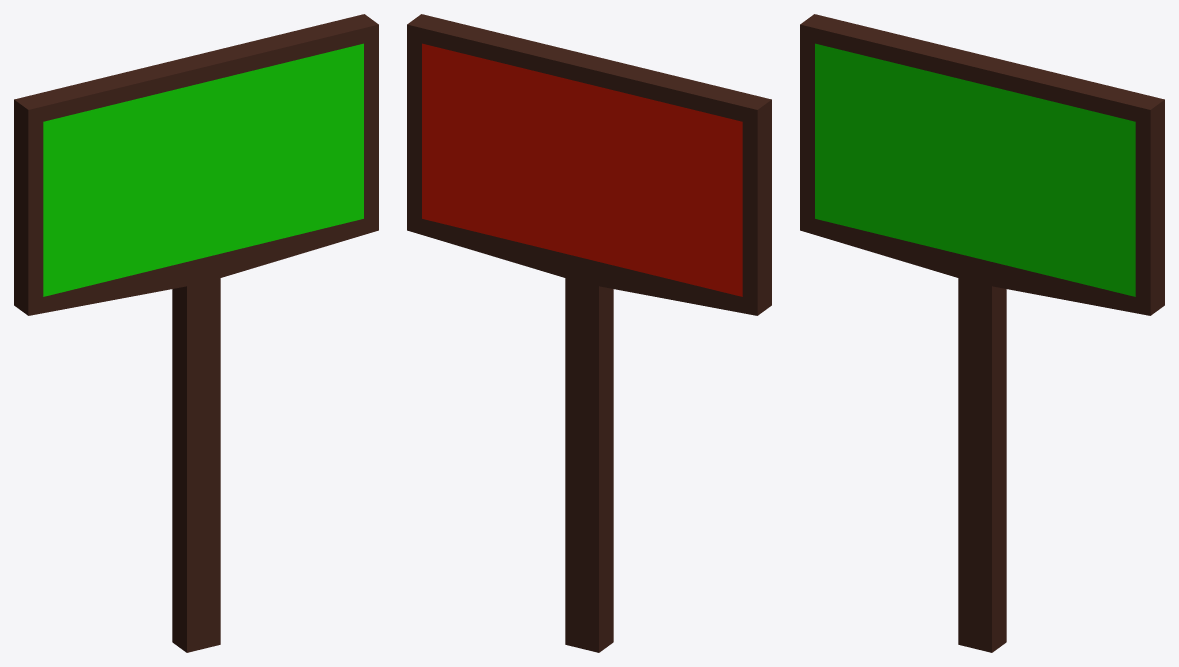
File: Sign.glb
3 views of the same model, side by side, from view 1: azimuth 30°, elevation 25°; view 2: azimuth 150°, elevation 25°; view 3: azimuth 330°, elevation 25° (orthographic).
Visible parts, largest first — view 1: Sign; view 2: Sign; view 3: Sign.
Boxes of the visible parts, left/top/right/bottom form: Sign: left=14, top=14, right=378, bottom=652; Sign: left=407, top=14, right=771, bottom=652; Sign: left=800, top=14, right=1164, bottom=652.
Size of the model in its own units: 0.2655 by 0.4211 by 0.0189.
